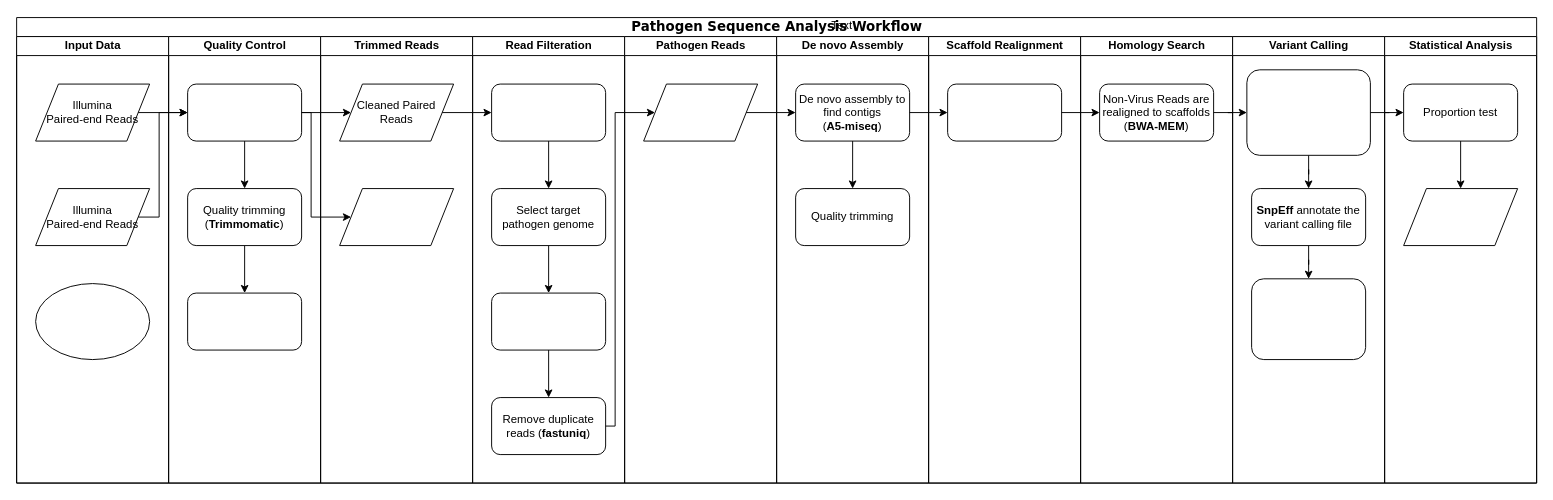
Some shapes in this 1553 by 500 pixel diagram are drawn without their labels. Each missing label, with the centre of its shape:
"BWA-MEM reads mapping to scaffolds" goes at [1004,112].
"Cleaned Unpaired Reads" goes at [396,217].
"Comprehensive Website Report" goes at [1460,217].
"GATK obtain the assembled genome by substitute SNPs/indels with reference genome" goes at [1308,319].
"Quality assessment after trimming ( FastQC / MultiQC )" goes at [244,321].
"Quality assessment before trimming ( FastQC / MultiQC )" goes at [244,112].
"Remove host genome" goes at [548,321].
"Remove rRNAs (16, 18, 23, 28, 5S, ITS rRNA )" goes at [548,112].
"Target Pathogen Reads" goes at [700,112].
"Two-Group Comparison" goes at [92,321].
"Variant Calling against reference genome ( VarScan / Samtools & BCFtools )" goes at [1308,112].
